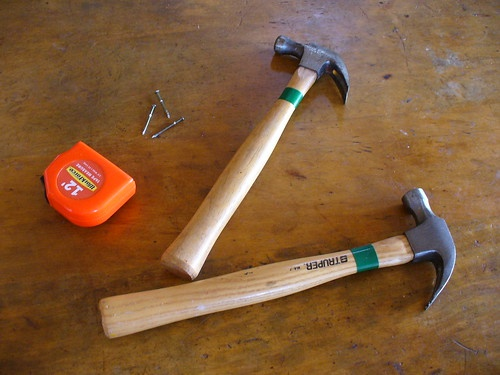hammer: (94, 185, 458, 341), (140, 35, 351, 280)
